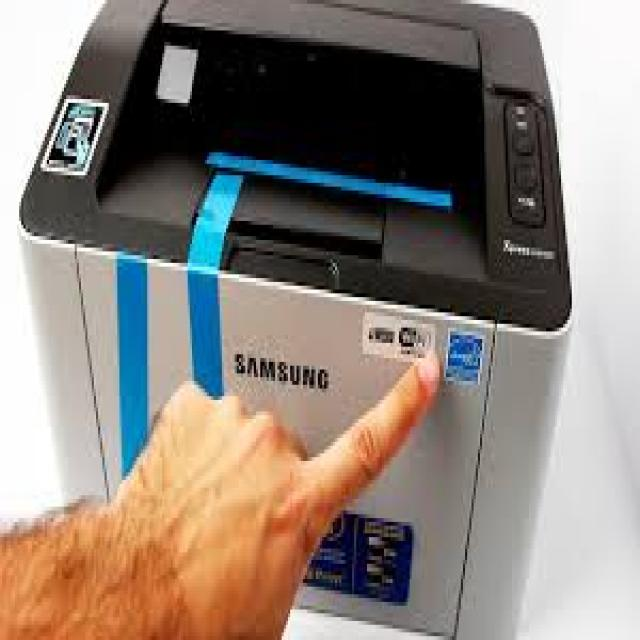printer: (17, 0, 574, 640)
